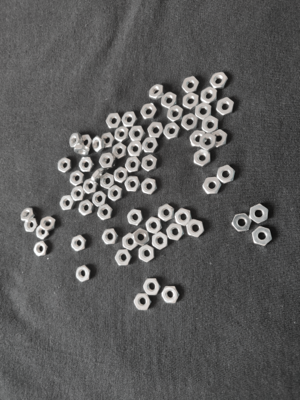nut: (252, 227, 273, 247), (250, 204, 269, 224), (217, 165, 236, 184), (232, 214, 252, 232), (175, 208, 193, 227), (216, 98, 235, 116), (203, 177, 222, 195), (134, 293, 152, 311), (187, 220, 205, 238), (182, 76, 200, 94), (210, 130, 228, 148), (167, 223, 184, 242), (194, 149, 211, 168), (143, 279, 161, 296), (133, 228, 150, 246), (158, 204, 175, 222), (181, 114, 199, 131), (210, 72, 228, 89), (190, 130, 208, 147), (152, 232, 168, 251), (195, 102, 211, 121), (200, 133, 216, 152), (162, 287, 179, 304), (146, 217, 163, 234), (125, 176, 142, 193), (202, 116, 219, 133), (141, 103, 157, 121), (164, 123, 180, 141), (115, 250, 132, 266), (102, 229, 119, 245), (97, 204, 113, 221), (99, 153, 116, 169), (128, 209, 144, 226), (142, 178, 158, 195), (149, 84, 165, 101), (167, 105, 183, 122), (183, 93, 199, 110), (201, 87, 217, 104), (76, 265, 91, 283), (123, 233, 138, 251), (139, 245, 154, 263), (60, 195, 76, 211), (106, 113, 122, 129), (125, 157, 141, 173), (127, 141, 143, 157), (143, 138, 159, 154), (148, 122, 164, 138), (71, 235, 86, 252), (108, 185, 123, 202), (112, 143, 127, 160), (122, 112, 139, 127), (142, 155, 157, 172), (162, 92, 177, 109), (70, 171, 85, 187), (79, 200, 94, 216), (83, 179, 98, 195), (79, 157, 95, 172), (92, 191, 107, 207), (129, 126, 145, 141), (114, 167, 128, 184), (40, 217, 55, 232), (114, 127, 129, 142), (34, 241, 48, 257), (58, 157, 72, 173), (102, 133, 116, 149), (92, 136, 105, 153), (101, 173, 114, 190), (20, 208, 35, 222), (24, 218, 38, 233), (69, 133, 83, 148), (72, 186, 85, 202), (91, 168, 105, 182), (36, 225, 49, 240), (74, 145, 90, 156), (81, 135, 93, 149)
